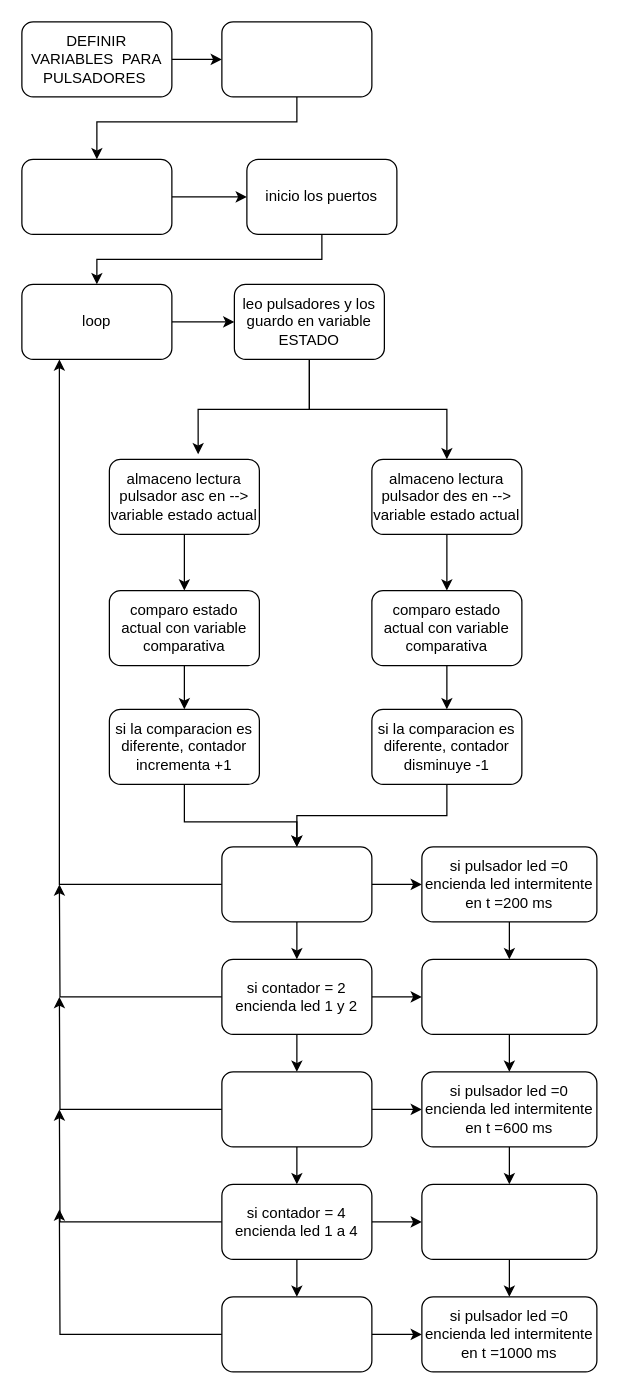
This 619x1394 diagram has some shape labels left out. Here are the shapes that lost their labels. From the top down, the box of each, then its label:
(221, 21, 372, 97): creo variables comparativas y contador, los inicio en cero
(21, 158, 172, 234): setup
(221, 846, 372, 922): si contador = 1 encienda led 1
(421, 958, 597, 1034): si pulsador led =0 encienda led intermitente en t =400 ms
(221, 1071, 372, 1147): si contador = 3 encienda led 1 a 3
(421, 1183, 597, 1259): si pulsador led =0 encienda led intermitente en t =800 ms
(221, 1296, 372, 1372): si contador = 5 encienda led 1 a 5
